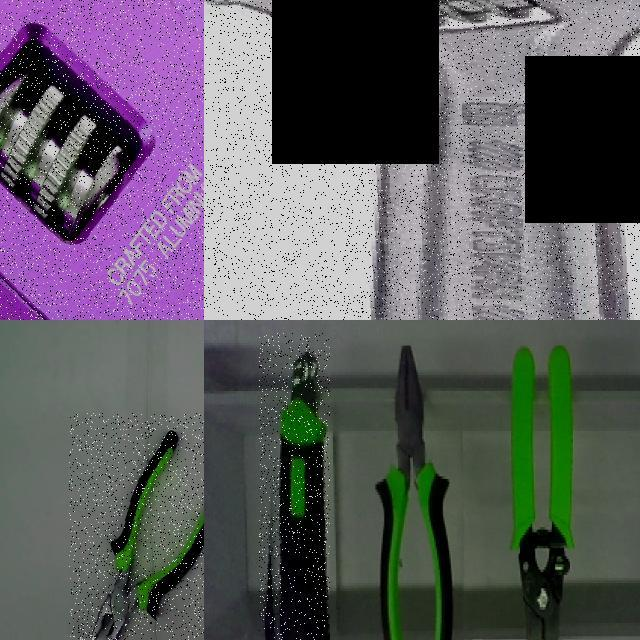estilete: (280, 351, 329, 639)
